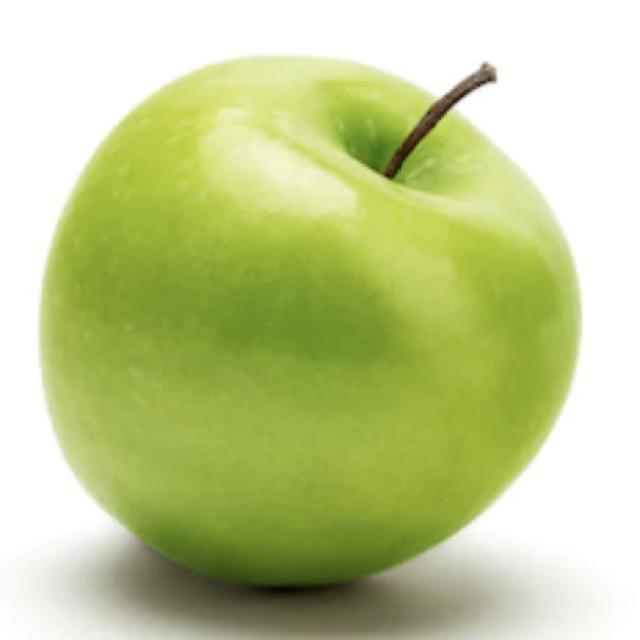Fresh Apple: (76, 53, 562, 595)
